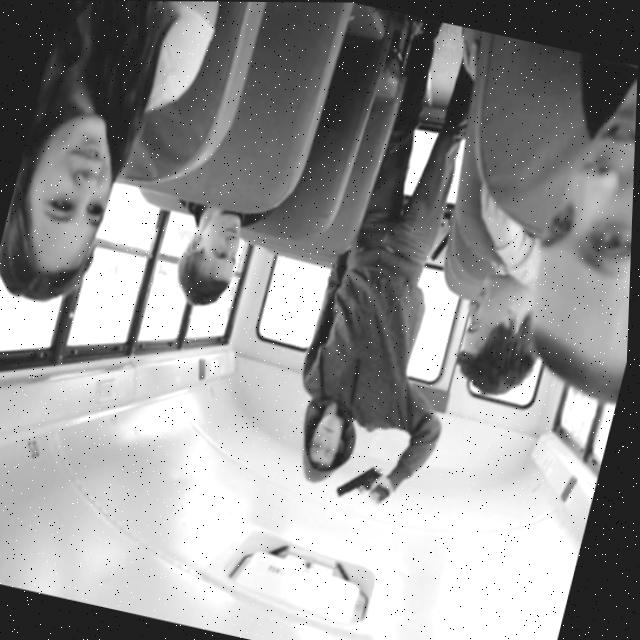pistol: (337, 460, 388, 506)
